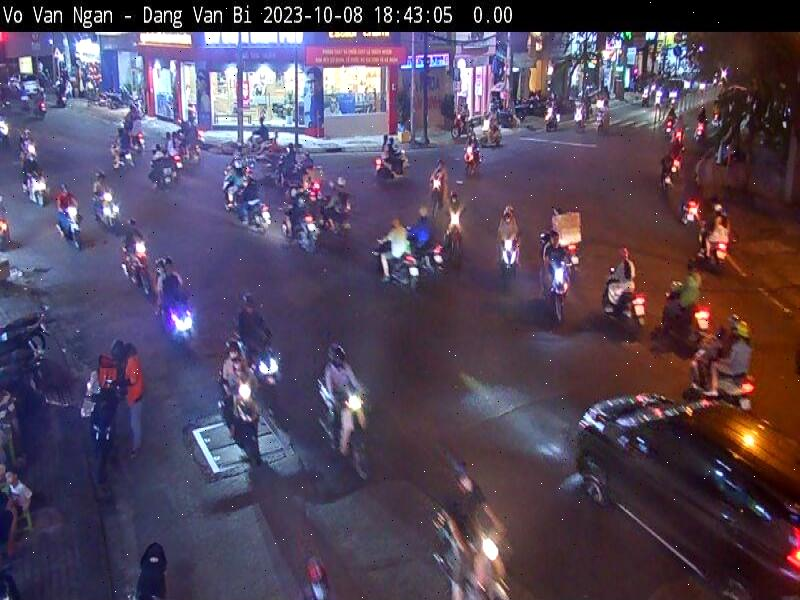car: (571, 381, 800, 600)
motorcycle: (428, 507, 512, 600), (312, 375, 376, 482), (213, 374, 269, 476), (86, 373, 125, 477), (654, 282, 712, 348), (367, 234, 424, 300), (598, 272, 650, 340), (131, 537, 171, 600), (542, 261, 572, 327), (407, 236, 448, 280), (495, 239, 523, 284)
